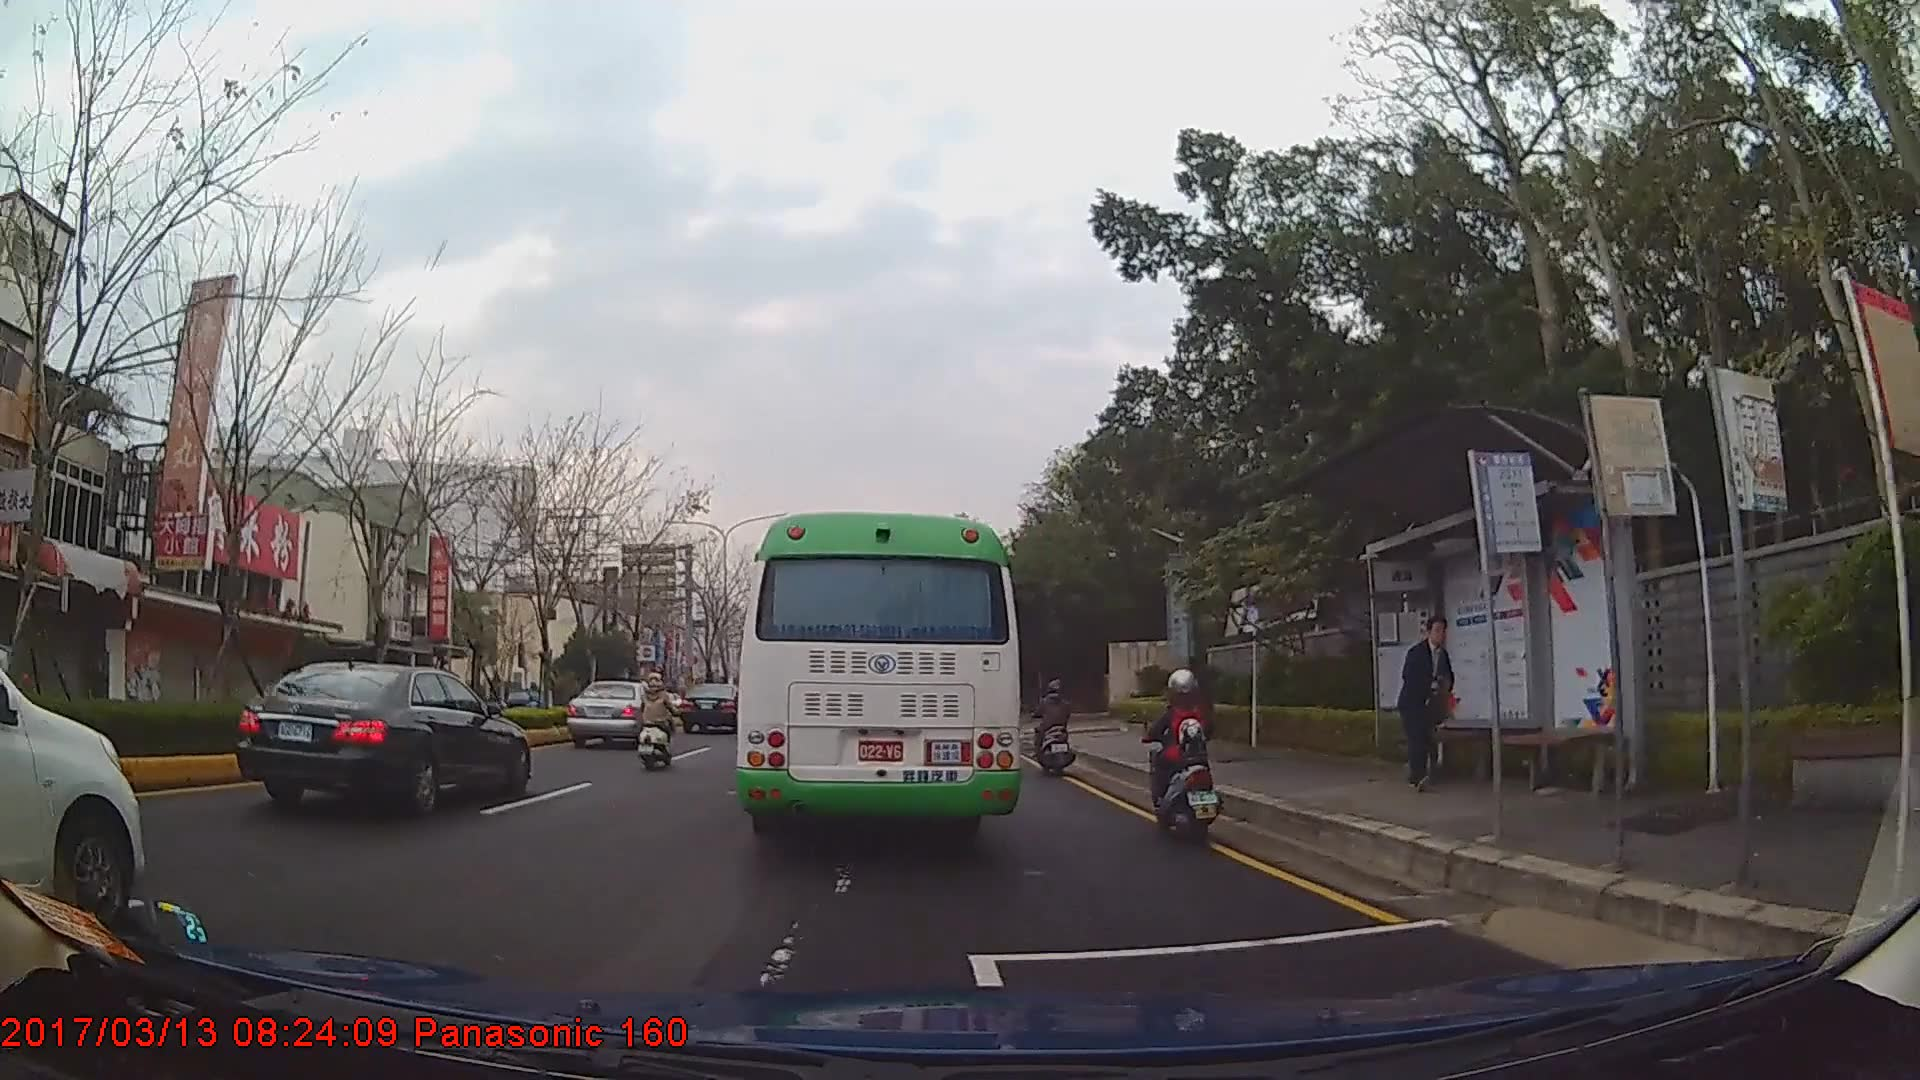pedestrian: (1400, 610, 1464, 792), (1162, 648, 1213, 755)
rider: (1140, 665, 1229, 838), (1032, 672, 1078, 776), (641, 670, 680, 764), (737, 679, 765, 730)
vehicle: (736, 508, 1018, 845), (234, 657, 531, 809), (568, 678, 665, 749), (679, 680, 748, 734)
